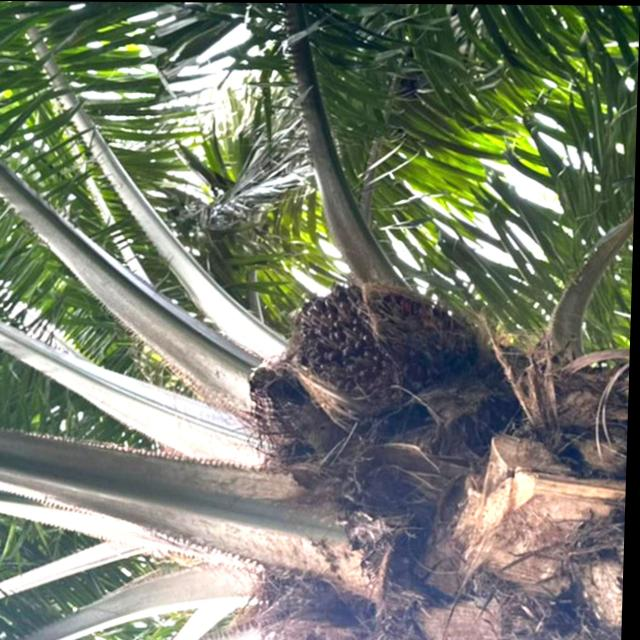ripe: (283, 260, 473, 419)
